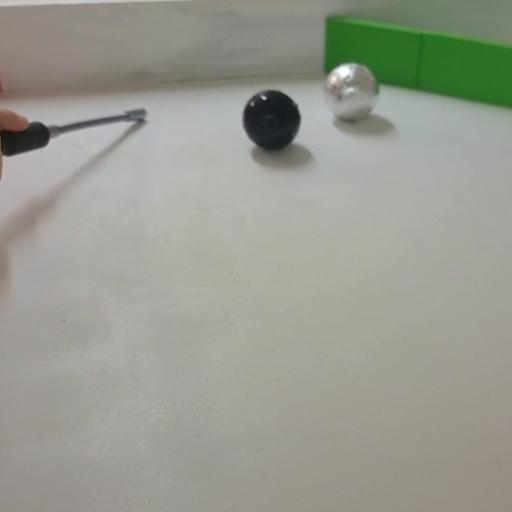alive: (322, 62, 379, 122)
dead: (241, 89, 302, 151)
